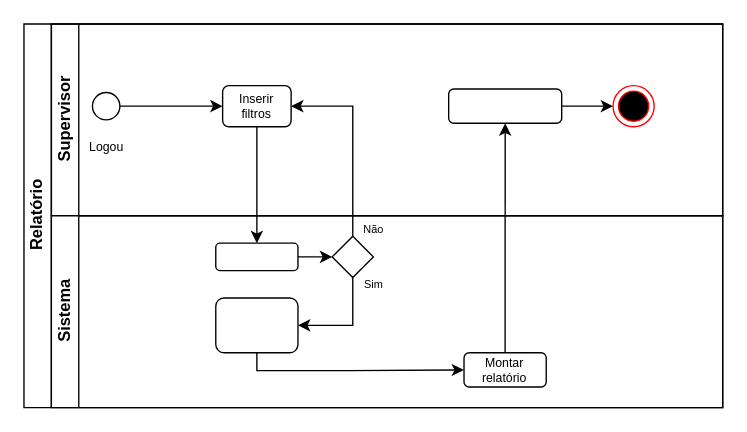
Image size: 747x432. Some labels were removed from this diagram. Each missing label, with the centre of its shape:
"Obter dados baseados nos filtros" goes at pixel 256 325.
"Realizar download" goes at pixel 504 105.
"Validar filtros" goes at pixel 256 256.
